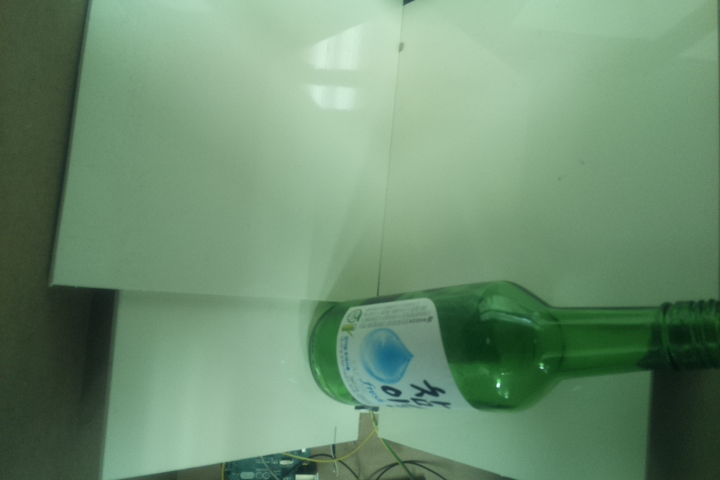soju: (308, 279, 720, 414)
